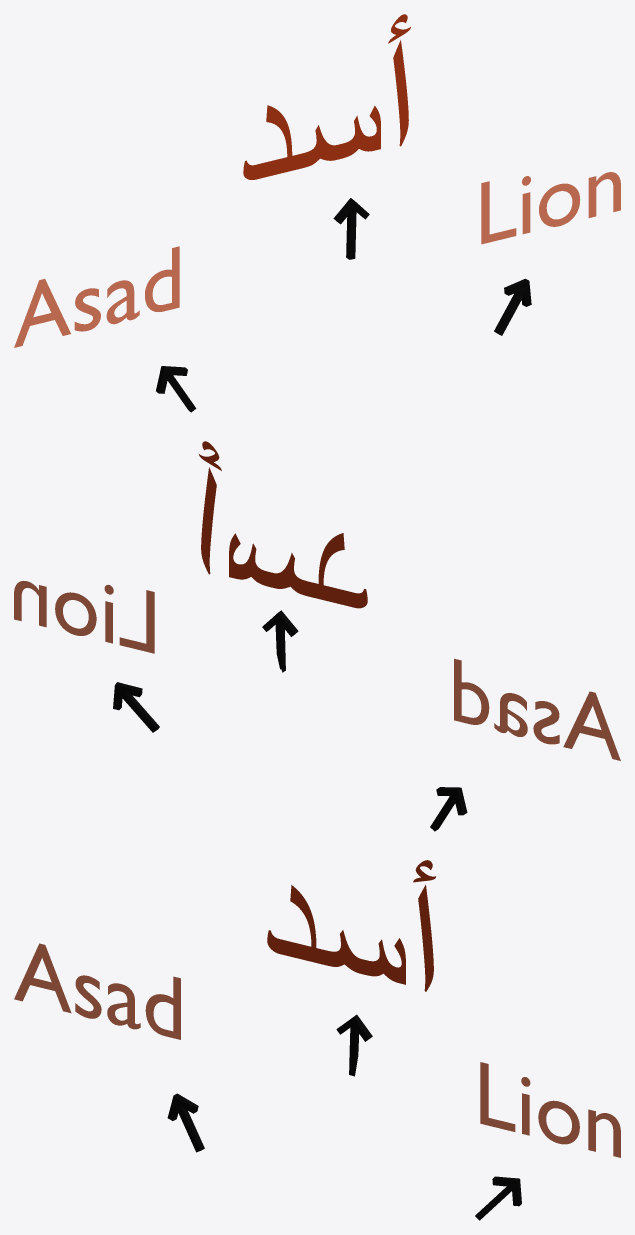
Rendered from lion1.fbx.
3 views of the same model, one above another, from view 1: azimuth 30°, elevation 25°; view 2: azimuth 150°, elevation 25°; view 3: azimuth 330°, elevation 25° (orthographic).
Parts seen in each view (by area): view 1: text8, Text.006, Text.005, Cube.007, Cube.009, Cube.008; view 2: text8, Text.006, Text.005, Cube.007, Cube.009, Cube.008; view 3: text8, Text.006, Text.005, Cube.008, Cube.009, Cube.007.
Boxes of the visible parts, bbox=[...] form: text8: bbox=[243, 14, 410, 179]; Text.006: bbox=[14, 246, 179, 347]; Text.005: bbox=[481, 172, 620, 244]; Cube.007: bbox=[494, 278, 531, 335]; Cube.009: bbox=[333, 198, 369, 259]; Cube.008: bbox=[156, 366, 196, 412]; text8: bbox=[199, 441, 367, 608]; Text.006: bbox=[454, 658, 620, 760]; Text.005: bbox=[14, 581, 154, 653]; Cube.007: bbox=[113, 682, 159, 732]; Cube.009: bbox=[262, 610, 298, 672]; Cube.008: bbox=[430, 787, 467, 831]; text8: bbox=[267, 860, 435, 991]; Text.006: bbox=[14, 943, 180, 1039]; Text.005: bbox=[480, 1062, 620, 1157]; Cube.008: bbox=[167, 1093, 204, 1152]; Cube.009: bbox=[336, 1014, 372, 1076]; Cube.007: bbox=[475, 1176, 521, 1220].
Size of the model in its own units: 202 by 108 by 14.02.
